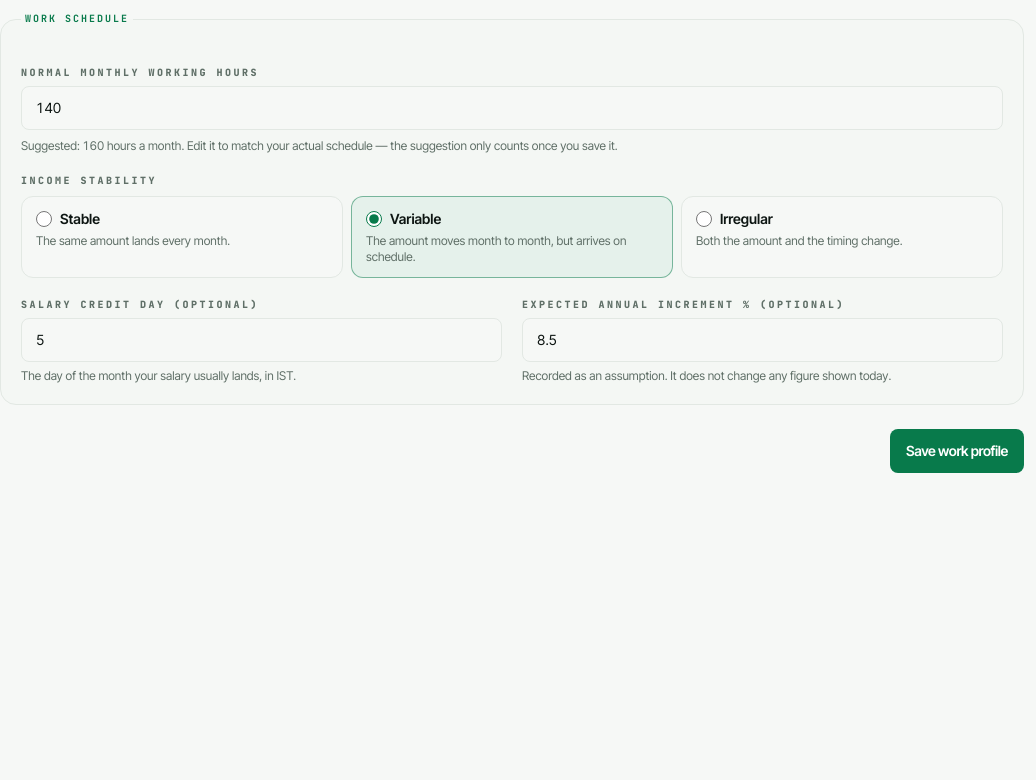
Test: SalaryProfileForm saved state › surfaces an unexpected save failure without clearing the form
What coordinates should you click on to do the following:
click the button "Save work profile"
I would click on:
 (957, 451)
Its box is [890,429,1024,473].
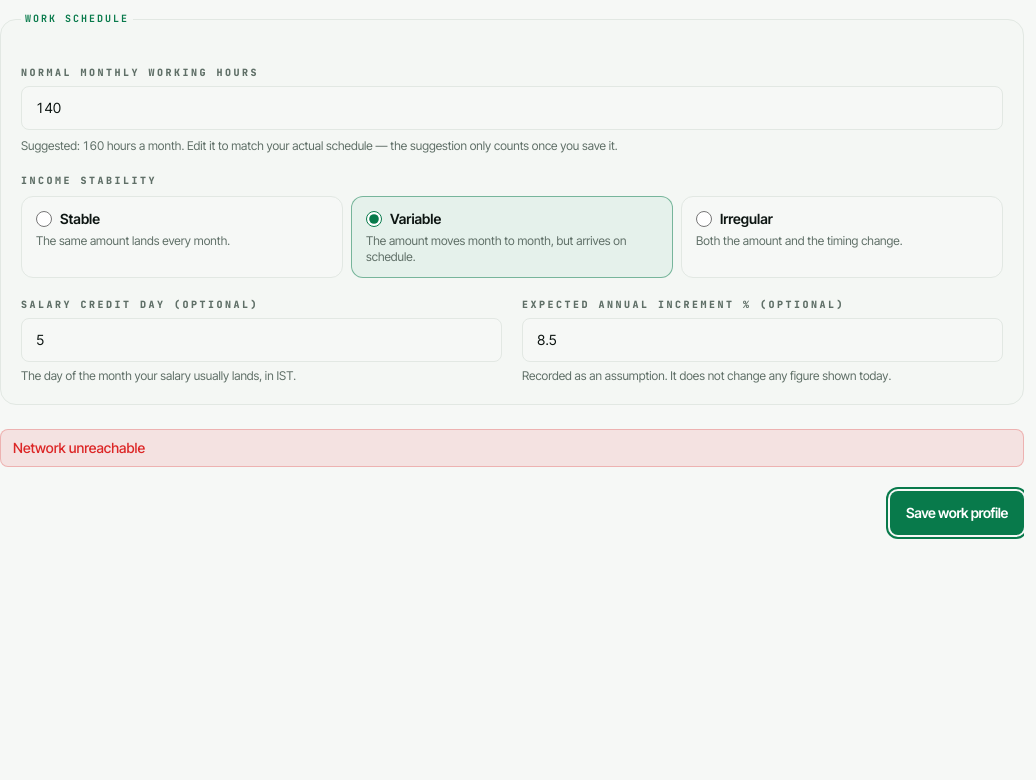
Check: the field labelled "Normal monthly working hours" holds "140", box [21,86,1003,130]
Check: the message reads "Network unreachable", box [13,439,145,456]
